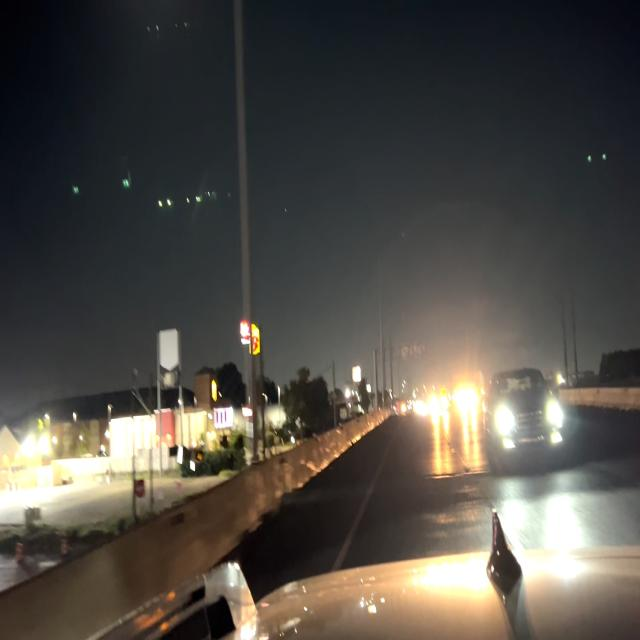back-of-sign: (398, 339, 429, 364)
